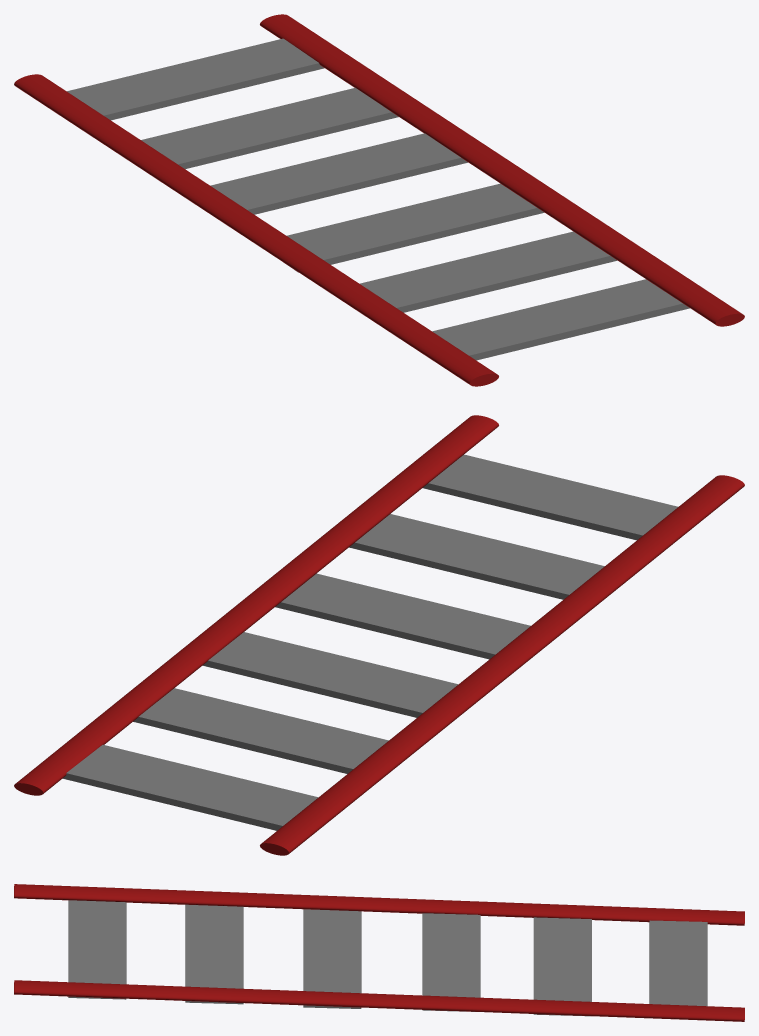
The model's file is rails.fbx.
The picture shows the model from 3 angles, top to bottom: view 1: azimuth 30°, elevation 25°; view 2: azimuth 150°, elevation 25°; view 3: azimuth 270°, elevation 25°; orthographic projection. The views are drawn at different scales.
Parts seen in each view (by area): view 1: pCylinder1, pCylinder2, pCube6, pCube4, pCube5, pCube3, pCube1, pCube2; view 2: pCylinder1, pCylinder2, pCube6, pCube4, pCube5, pCube3, pCube1, pCube2; view 3: pCylinder2, pCylinder1, pCube3, pCube2, pCube1, pCube6, pCube5, pCube4.
Part boxes in pixels (box(x1,y1,x2,y2)): pCylinder1: box(14, 74, 498, 386); pCylinder2: box(260, 14, 744, 326); pCube6: box(67, 38, 324, 120); pCube4: box(210, 133, 467, 214); pCube5: box(141, 87, 398, 169); pCube3: box(286, 183, 544, 272); pCube1: box(432, 279, 689, 360); pCube2: box(360, 231, 617, 312); pCylinder1: box(260, 475, 744, 855); pCylinder2: box(14, 415, 498, 795); pCube6: box(63, 744, 318, 830); pCube4: box(203, 632, 458, 717); pCube5: box(133, 688, 388, 773); pCube3: box(275, 573, 530, 659); pCube1: box(423, 454, 678, 540); pCube2: box(349, 514, 604, 599); pCylinder2: box(14, 980, 744, 1021); pCylinder1: box(14, 884, 744, 925); pCube3: box(303, 909, 361, 1008); pCube2: box(185, 904, 243, 1004); pCube1: box(68, 900, 126, 999); pCube6: box(649, 920, 707, 1006); pCube5: box(533, 917, 591, 1016); pCube4: box(422, 913, 480, 1011).
Bounding box in the file's own units: 4.38 × 0.6809 × 12.56.
